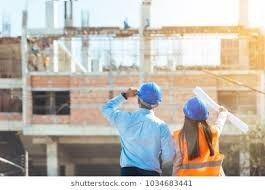helmet: (136, 81, 162, 106), (184, 95, 207, 120)
person with full safety: (175, 93, 225, 174)
person with partial safety: (104, 80, 173, 177)
safety vest: (177, 123, 221, 173)
